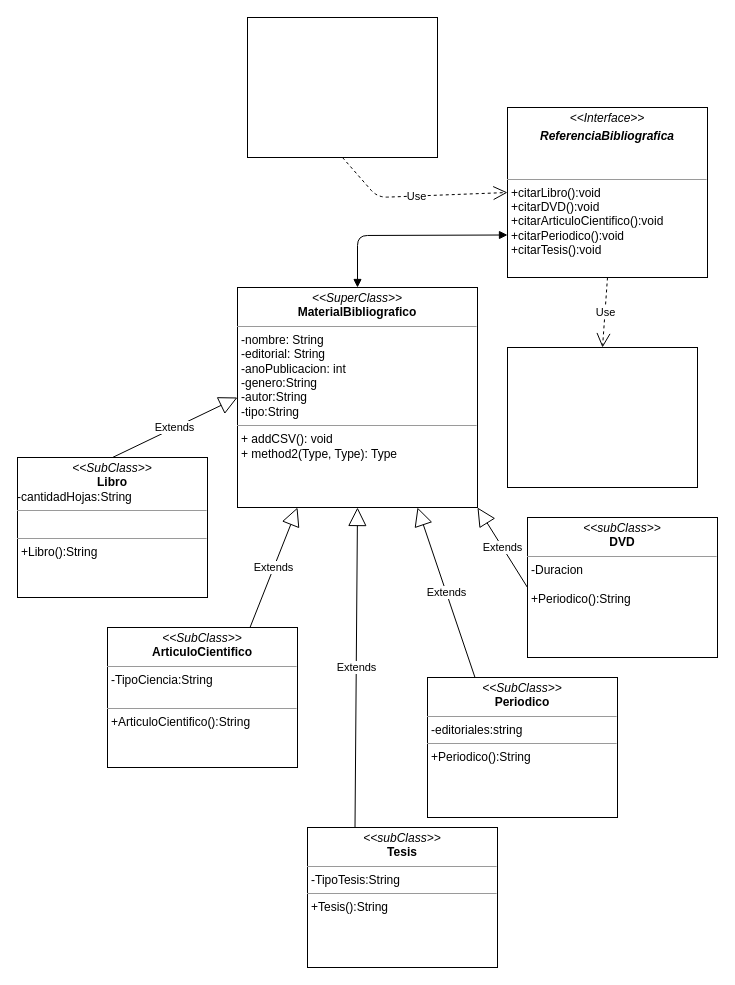
This 735x985 diagram has some shape labels left out. The shapes that lost their labels are listed below. From the top down, each one's centre as x and y in pixels, then its label:
At (x=342, y=87): "<<main>> Main Menu(): void".
At (x=602, y=417): "<<Interface>> CSVManager + SaveCatalogCSV():void + LoadCatalogCSV():void".
